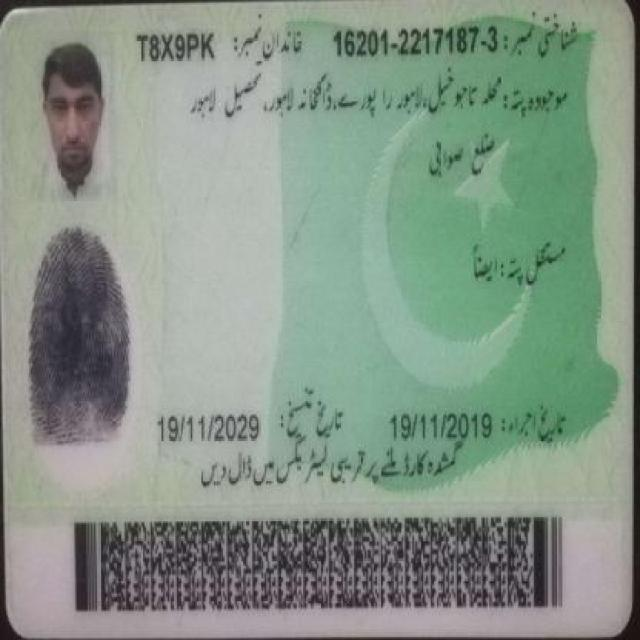Back: (5, 9, 617, 616)
